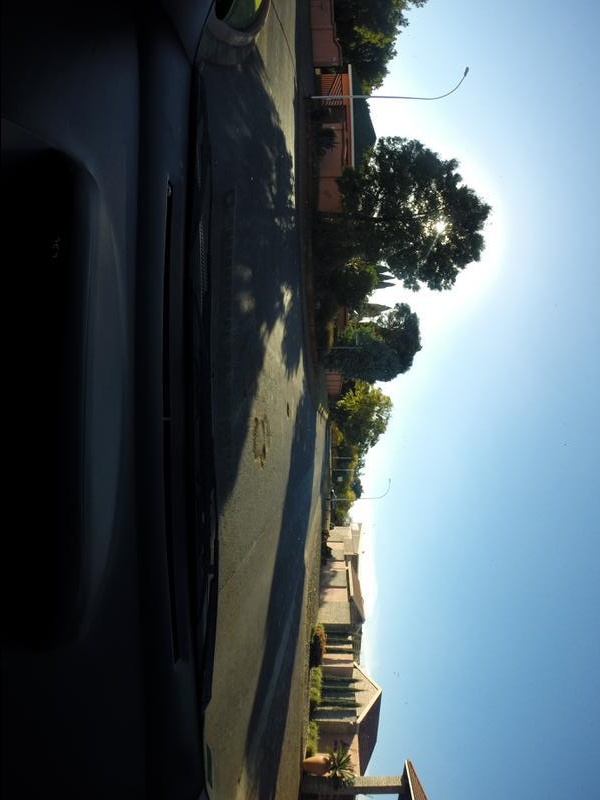pothole: (241, 411, 278, 478), (279, 394, 295, 437)
